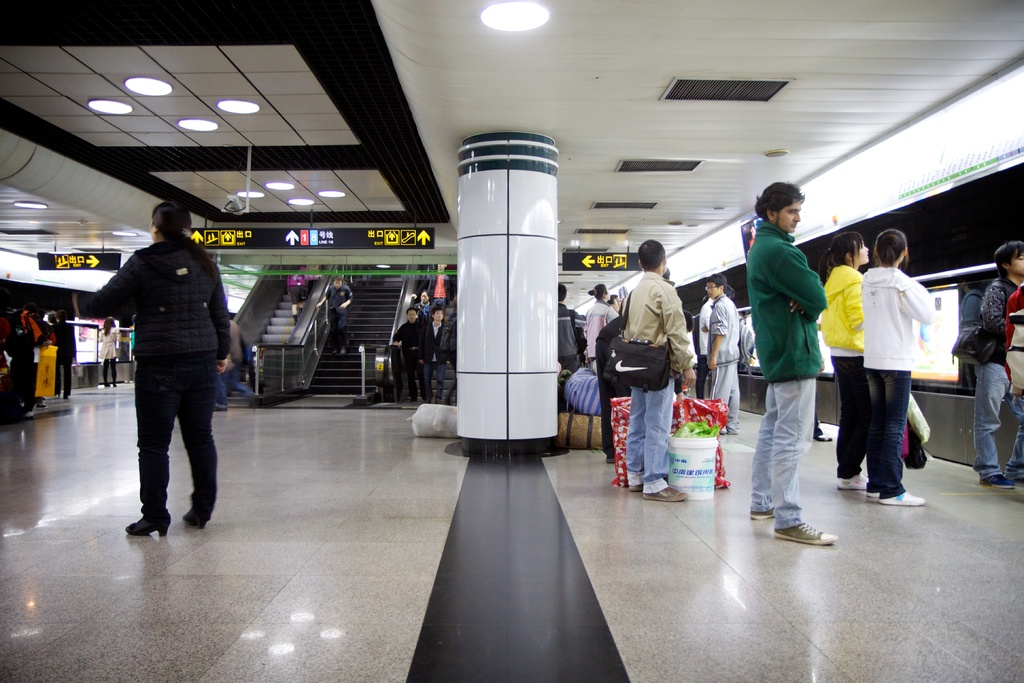Person: (390, 183, 1024, 546), (51, 308, 77, 399), (324, 274, 353, 354), (97, 312, 120, 386), (285, 260, 308, 324)
